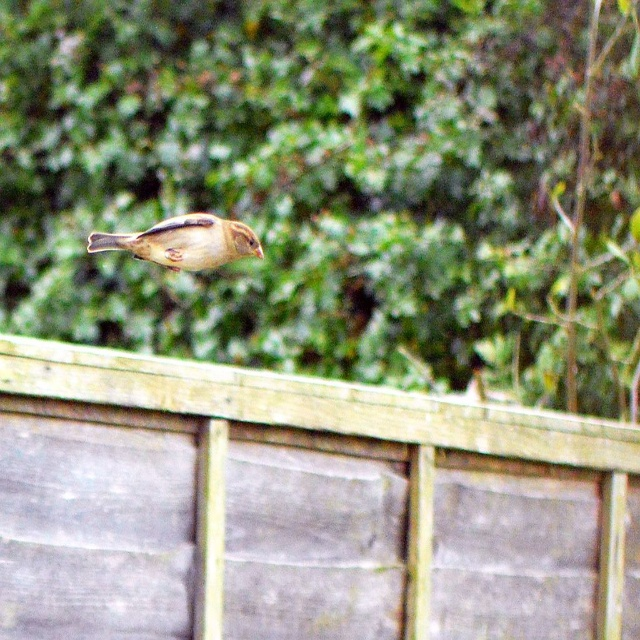Sparrow: (84, 211, 263, 288)
